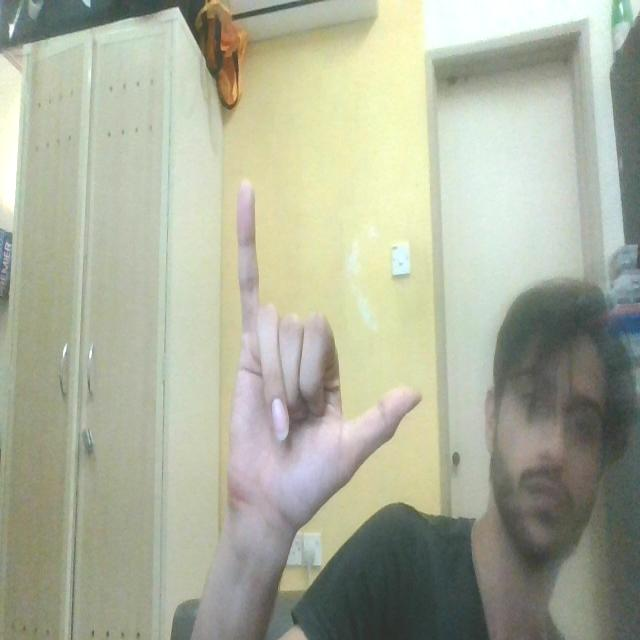shaka: (223, 172, 425, 534)
